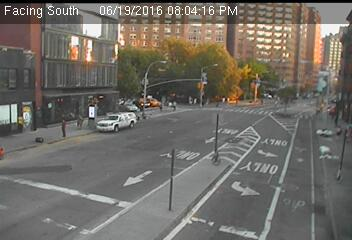neg: (278, 129, 312, 175), (181, 105, 205, 137), (255, 120, 269, 139), (238, 99, 251, 117), (261, 69, 269, 80)
pos: (52, 114, 70, 138), (72, 109, 89, 132), (169, 97, 179, 110)
